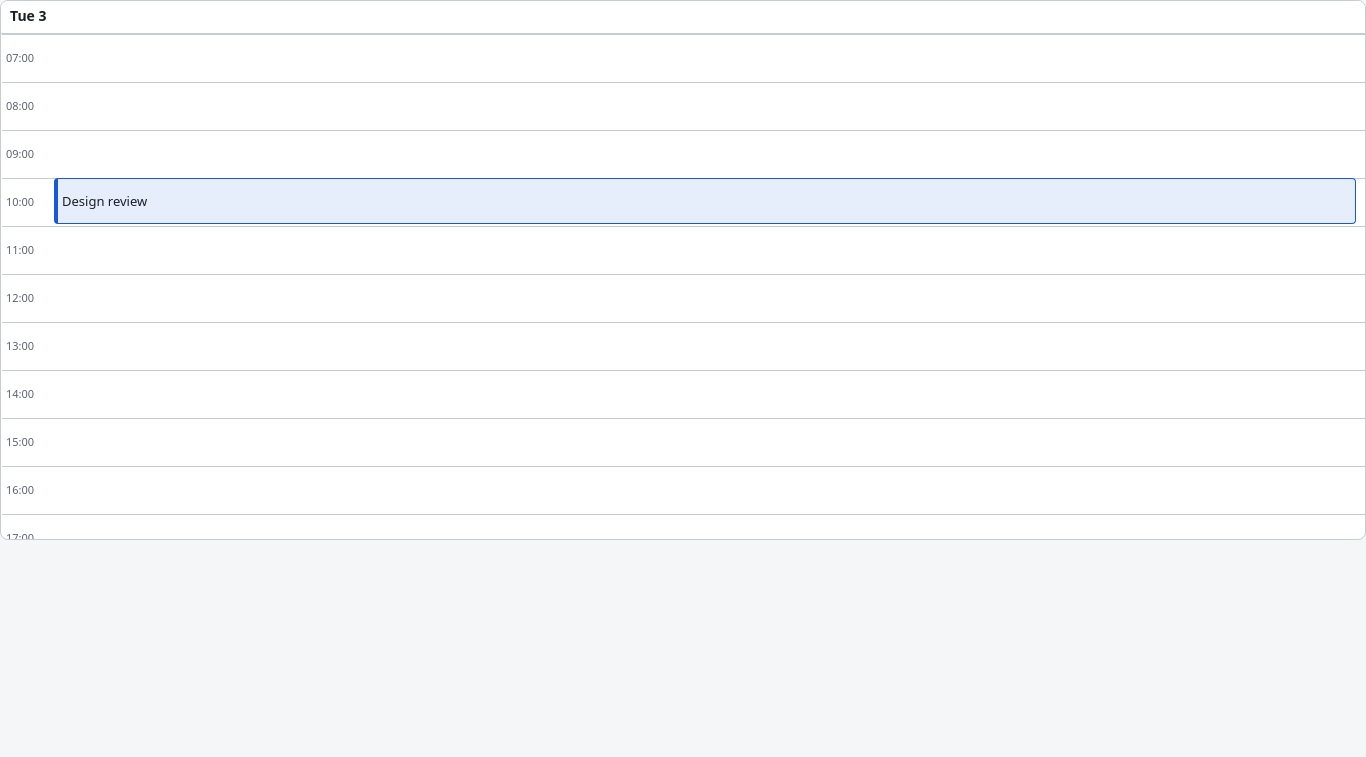
Test: Calendar: changing and deleting an event › closes the form on Escape and puts focus back on the event
(page scrolled)
Step 1. Click the button with aria-label "Design review," → [105, 201], box [54, 178, 1356, 224]
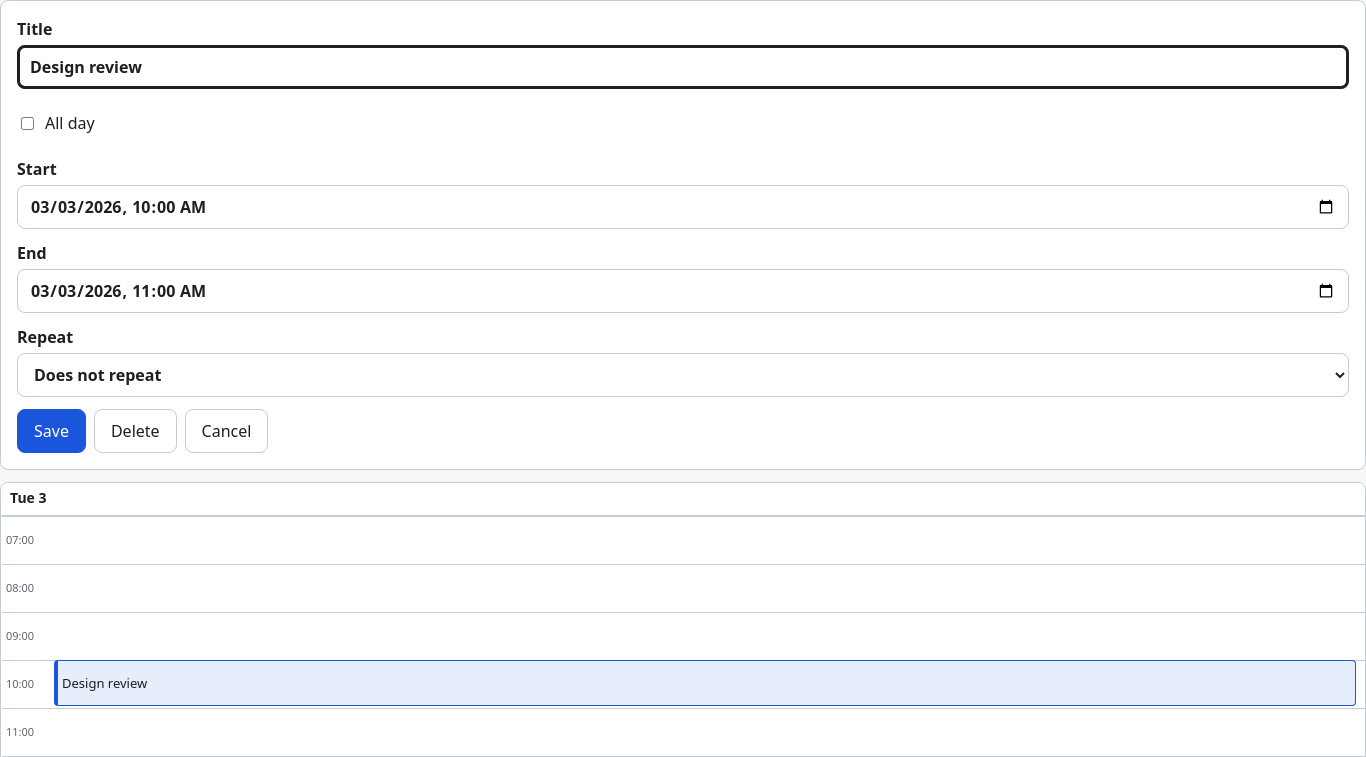
Step 2. Replace the text in the field labelled "Title" with "Changed" → [683, 67], box [17, 45, 1349, 89]
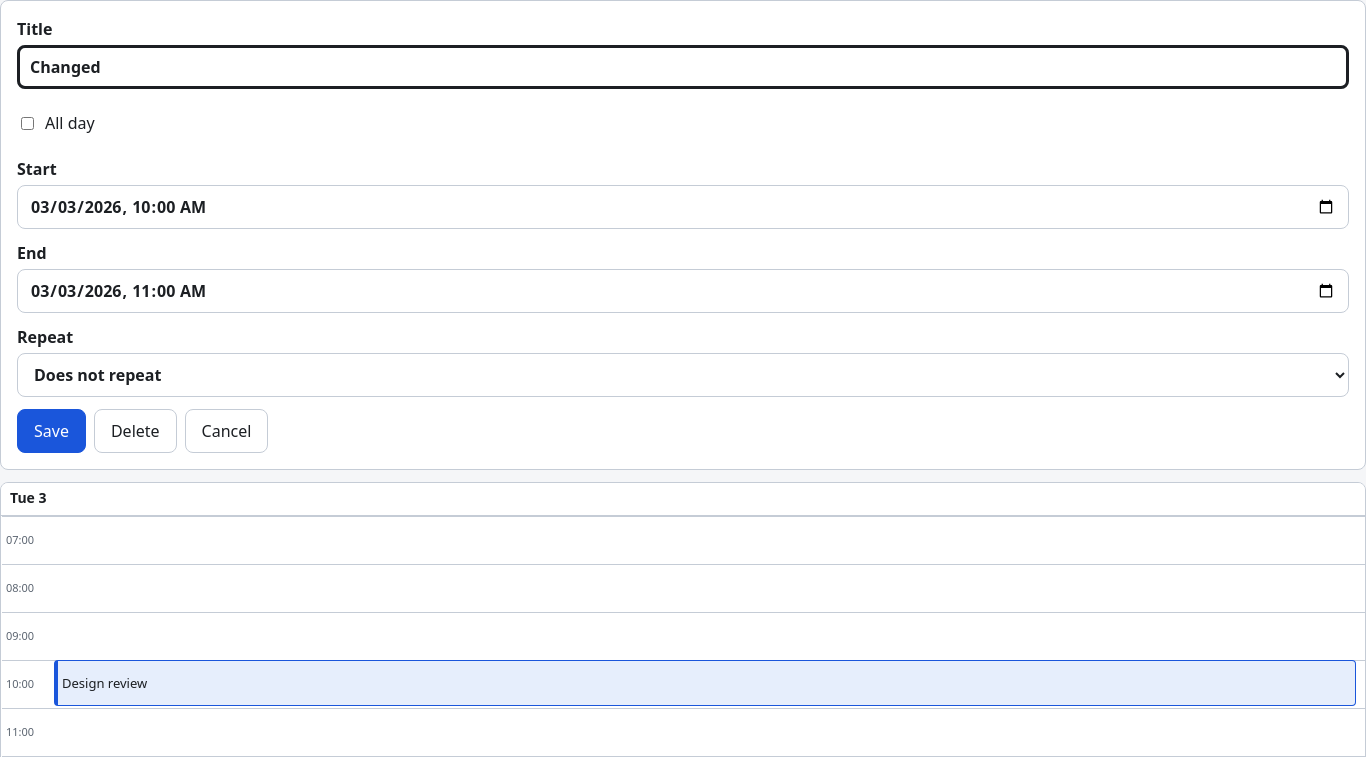
Step 3. Press Escape in the field labelled "Title", box [17, 45, 1349, 89]
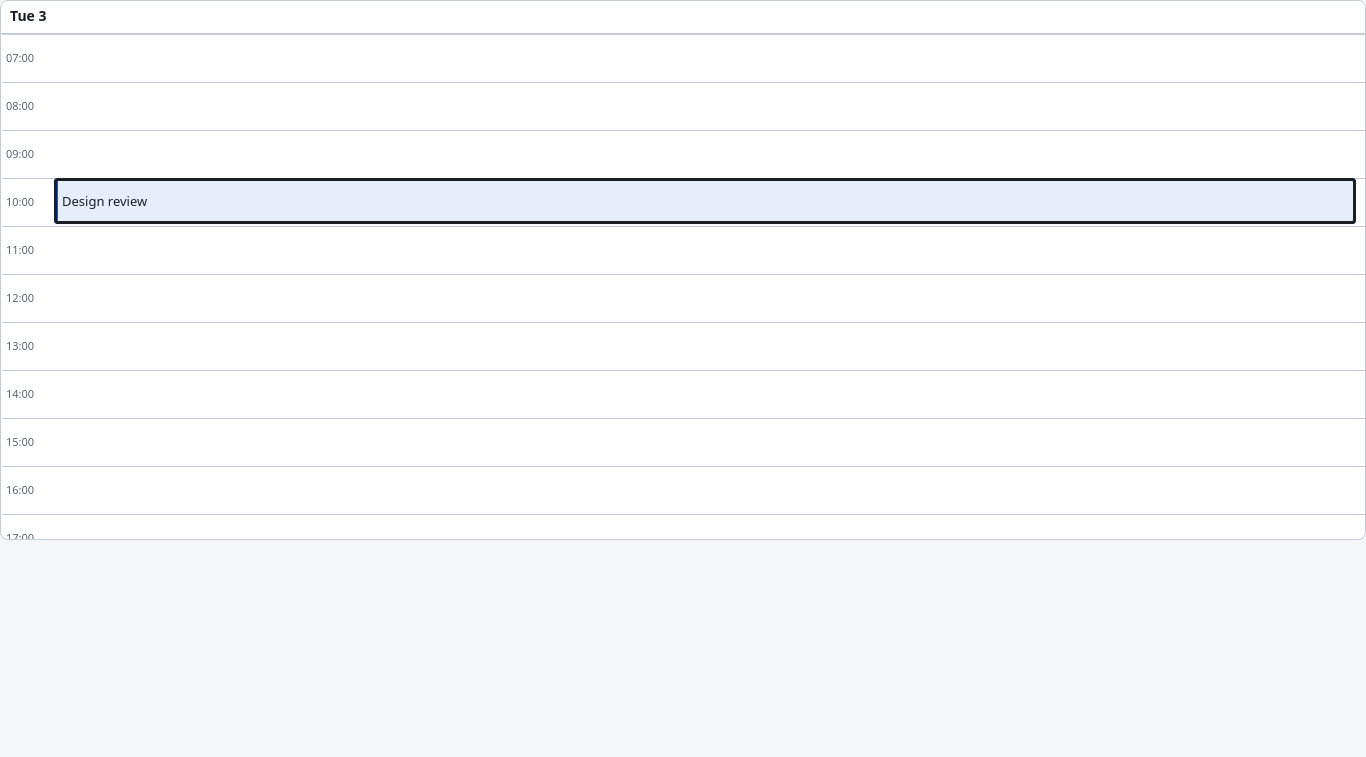
Result: the form is gone
